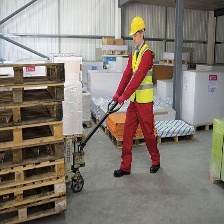helmet: (128, 15, 147, 40)
person: (114, 14, 161, 178)
vest: (131, 44, 153, 103)
